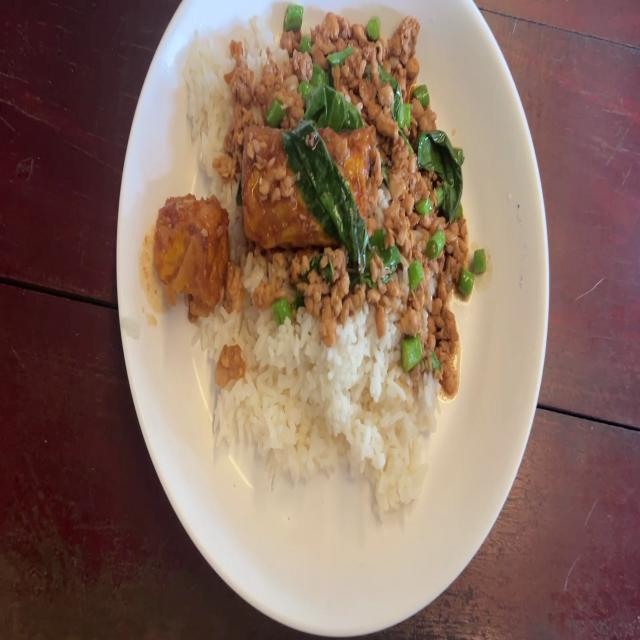01rice: (257, 325, 423, 499)
fried_tofo: (246, 132, 372, 232), (162, 199, 222, 302)
minced_pork: (217, 0, 454, 133), (374, 136, 468, 378)
stir_fried_basil: (143, 13, 498, 531)
